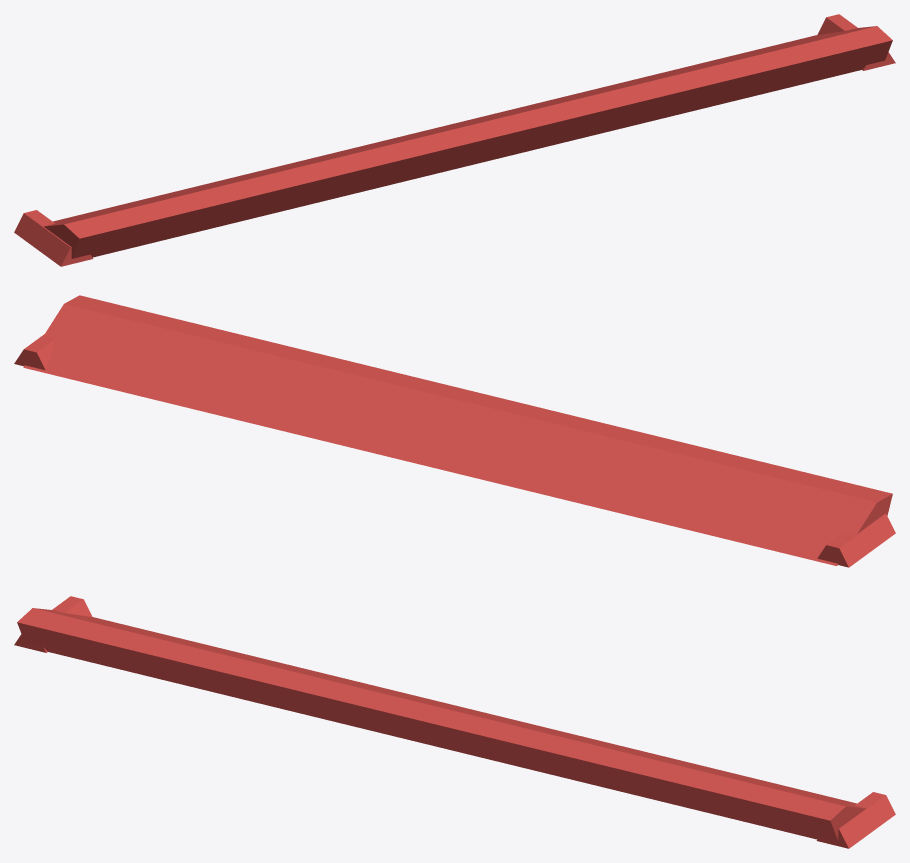
Rendered from spoiler_lip.glb.
The picture shows the model from 3 angles, top to bottom: view 1: azimuth 30°, elevation 25°; view 2: azimuth 150°, elevation 25°; view 3: azimuth 330°, elevation 25°; orthographic projection.
Visible parts, largest first — view 1: spoiler_lip__mesh; view 2: spoiler_lip__mesh; view 3: spoiler_lip__mesh.
Part boxes in pixels (x1,y1,x2,y2): spoiler_lip__mesh: (14, 14, 895, 266); spoiler_lip__mesh: (14, 295, 895, 567); spoiler_lip__mesh: (14, 596, 895, 848).
Size of the model in its own units: 1.54 by 0.06 by 0.18.
